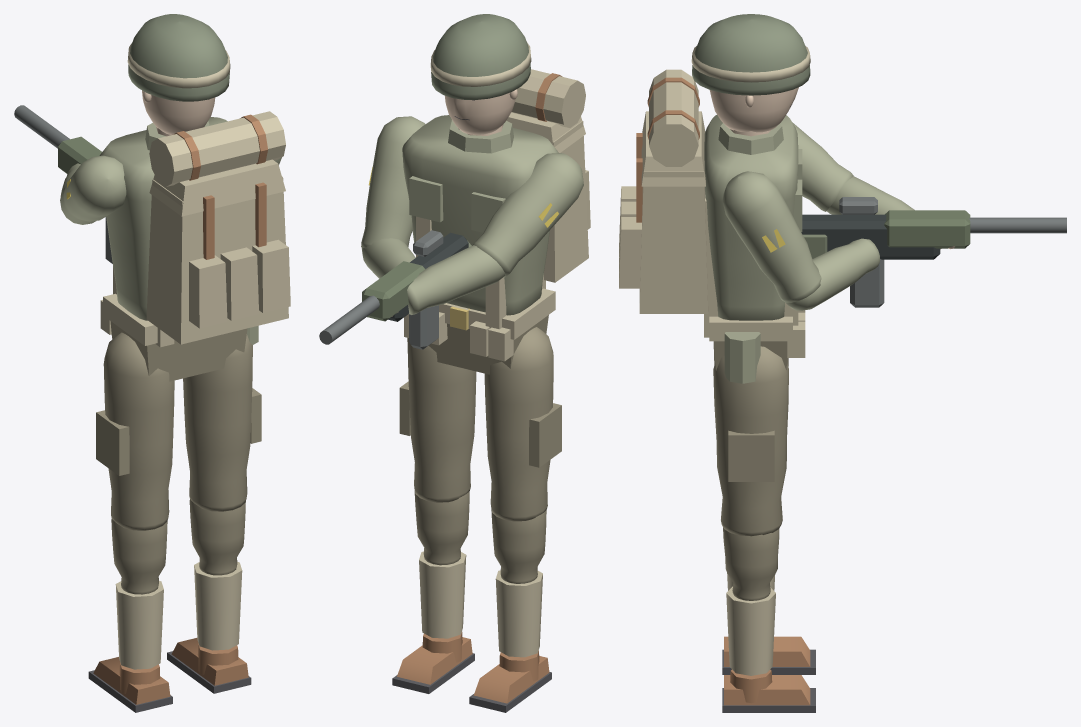
Rendered from user_rifleman_near.glb.
3 views of the same model, side by side, from view 1: azimuth 30°, elevation 25°; view 2: azimuth 150°, elevation 25°; view 3: azimuth 270°, elevation 25° (orthographic).
Visible parts, largest first — view 1: Soldier_1944_WWII_Rifleman_Backpack, Soldier_1944_WWII_Rifleman_Thigh_L, Soldier_1944_WWII_Rifleman_Thigh_R, Soldier_1944_WWII_Rifleman_Helmet, Soldier_1944_WWII_Rifleman_Shin_R, Soldier_1944_WWII_Rifleman_Shin_L, Soldier_1944_WWII_Rifleman_Torso_Upper, Soldier_1944_WWII_Rifleman_Pelvis, Soldier_1944_WWII_Rifleman_UpperArm_L, Soldier_1944_WWII_Rifleman_Foot_R, Soldier_1944_WWII_Rifleman_Foot_L, Rifle (+2 smaller); view 2: Soldier_1944_WWII_Rifleman_Torso_Upper, Soldier_1944_WWII_Rifleman_Thigh_L, Soldier_1944_WWII_Rifleman_Thigh_R, Soldier_1944_WWII_Rifleman_Backpack, Soldier_1944_WWII_Rifleman_Helmet, Soldier_1944_WWII_Rifleman_Shin_R, Soldier_1944_WWII_Rifleman_UpperArm_L, Soldier_1944_WWII_Rifleman_Shin_L, Rifle, Soldier_1944_WWII_Rifleman_UpperArm_R, Soldier_1944_WWII_Rifleman_Pelvis, Soldier_1944_WWII_Rifleman_Forearm_L (+5 smaller); view 3: Soldier_1944_WWII_Rifleman_Backpack, Soldier_1944_WWII_Rifleman_Thigh_R, Soldier_1944_WWII_Rifleman_Torso_Upper, Rifle, Soldier_1944_WWII_Rifleman_Helmet, Soldier_1944_WWII_Rifleman_UpperArm_R, Soldier_1944_WWII_Rifleman_Shin_R, Soldier_1944_WWII_Rifleman_Foot_R, Soldier_1944_WWII_Rifleman_Vest_Webbing, Soldier_1944_WWII_Rifleman_Forearm_R, Soldier_1944_WWII_Rifleman_Head, Soldier_1944_WWII_Rifleman_UpperArm_L (+3 smaller).
Part boxes in pixels (<box>): Soldier_1944_WWII_Rifleman_Backpack: <box>146,111,290,344</box>; Soldier_1944_WWII_Rifleman_Thigh_L: <box>96,332,174,530</box>; Soldier_1944_WWII_Rifleman_Thigh_R: <box>183,334,261,511</box>; Soldier_1944_WWII_Rifleman_Helmet: <box>127,14,230,101</box>; Soldier_1944_WWII_Rifleman_Shin_R: <box>189,499,245,650</box>; Soldier_1944_WWII_Rifleman_Shin_L: <box>111,518,167,669</box>; Soldier_1944_WWII_Rifleman_Torso_Upper: <box>99,117,227,320</box>; Soldier_1944_WWII_Rifleman_Pelvis: <box>103,293,247,381</box>; Soldier_1944_WWII_Rifleman_UpperArm_L: <box>60,155,126,224</box>; Soldier_1944_WWII_Rifleman_Foot_R: <box>167,638,251,693</box>; Soldier_1944_WWII_Rifleman_Foot_L: <box>88,657,172,712</box>; Rifle: <box>14,105,112,263</box>; Soldier_1944_WWII_Rifleman_Torso_Upper: <box>402,115,558,315</box>; Soldier_1944_WWII_Rifleman_Thigh_L: <box>484,327,561,521</box>; Soldier_1944_WWII_Rifleman_Thigh_R: <box>399,338,476,502</box>; Soldier_1944_WWII_Rifleman_Backpack: <box>506,69,590,282</box>; Soldier_1944_WWII_Rifleman_Helmet: <box>430,14,531,99</box>; Soldier_1944_WWII_Rifleman_Shin_R: <box>414,491,469,638</box>; Soldier_1944_WWII_Rifleman_UpperArm_L: <box>472,153,583,277</box>; Soldier_1944_WWII_Rifleman_Shin_L: <box>491,509,546,657</box>; Rifle: <box>319,230,471,349</box>; Soldier_1944_WWII_Rifleman_UpperArm_R: <box>361,116,425,248</box>; Soldier_1944_WWII_Rifleman_Pelvis: <box>428,288,555,374</box>; Soldier_1944_WWII_Rifleman_Forearm_L: <box>407,245,505,314</box>; Soldier_1944_WWII_Rifleman_Backpack: <box>619,69,708,313</box>; Soldier_1944_WWII_Rifleman_Thigh_R: <box>713,346,788,536</box>; Soldier_1944_WWII_Rifleman_Torso_Upper: <box>704,115,802,320</box>; Rifle: <box>801,197,1066,307</box>; Soldier_1944_WWII_Rifleman_Helmet: <box>691,14,810,95</box>; Soldier_1944_WWII_Rifleman_UpperArm_R: <box>722,171,821,302</box>; Soldier_1944_WWII_Rifleman_Shin_R: <box>723,527,779,675</box>; Soldier_1944_WWII_Rifleman_Foot_R: <box>722,669,815,712</box>; Soldier_1944_WWII_Rifleman_Vest_Webbing: <box>704,195,805,383</box>; Soldier_1944_WWII_Rifleman_Forearm_R: <box>785,238,879,310</box>; Soldier_1944_WWII_Rifleman_Head: <box>709,87,798,132</box>; Soldier_1944_WWII_Rifleman_UpperArm_L: <box>792,122,853,211</box>.
Bounding box in the file's own units: 0.5411 × 1.71 × 1.04.
Materials: 2 (2 with a texture image).
